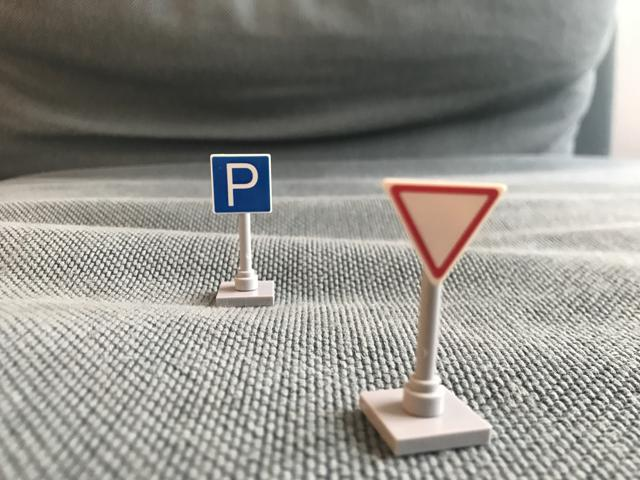parken: (205, 151, 277, 218)
vorfahrt gewähren: (375, 181, 507, 282)
